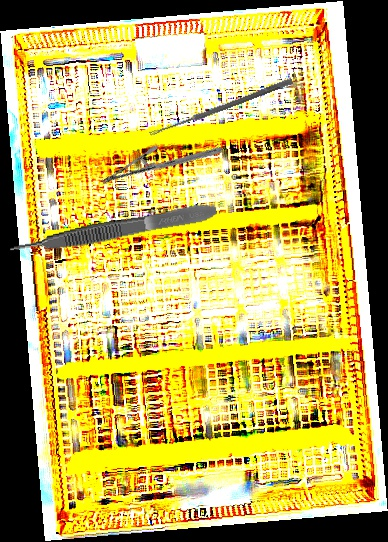Needle Holder: (99, 103, 225, 228)
Surgical Spoon: (148, 76, 294, 139)
Tissue Forceps: (7, 200, 219, 259)
